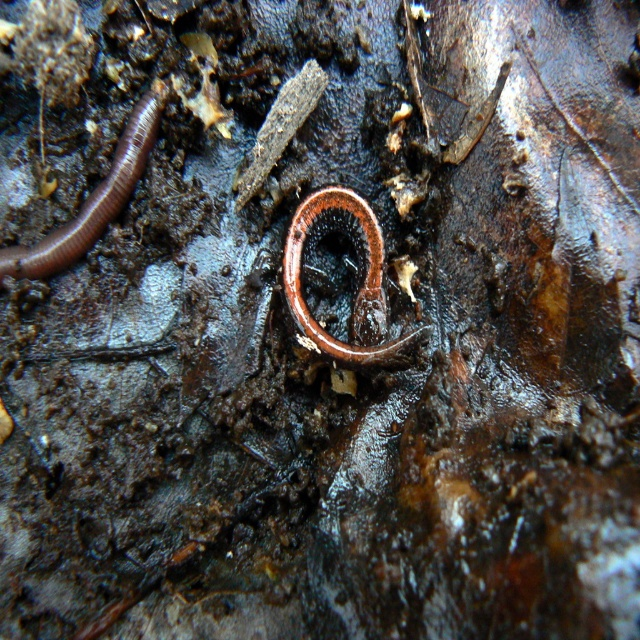Worm: (0, 91, 165, 287)
